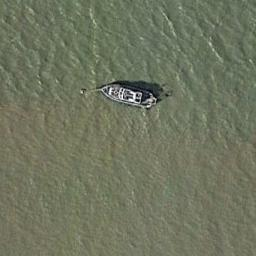boat: (98, 81, 158, 109)
